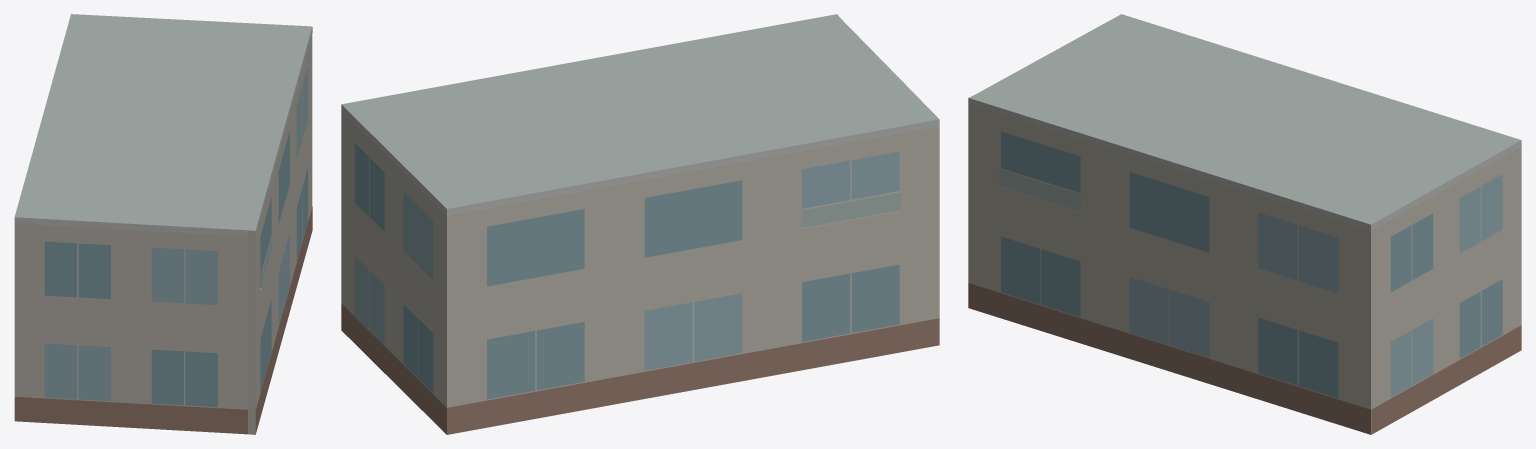
Rendered from survey-upis-32631967.glb.
3 renders of one model, left to right at view 1: azimuth 30°, elevation 25°; view 2: azimuth 150°, elevation 25°; view 3: azimuth 270°, elevation 25°, orthographic. The views are drawn at different scales.
Visible parts, largest first — view 1: survey-upis-32631967.tmp; view 2: survey-upis-32631967.tmp; view 3: survey-upis-32631967.tmp.
Boxes of the visible parts, x1,y1,x2,y2 form: survey-upis-32631967.tmp: (14,14,312,434); survey-upis-32631967.tmp: (341,14,939,434); survey-upis-32631967.tmp: (968,14,1521,434).
Size of the model in its own units: 17.1 by 7.95 by 18.97.
